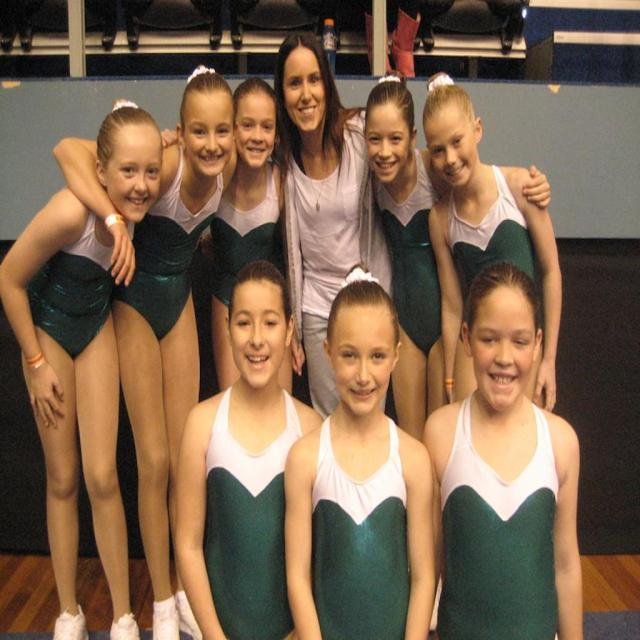Face: (462, 279, 549, 417), (418, 68, 489, 199), (324, 290, 393, 419), (223, 292, 300, 387), (359, 83, 422, 195), (101, 117, 163, 221), (279, 35, 331, 146), (185, 79, 235, 180), (235, 87, 281, 180)
